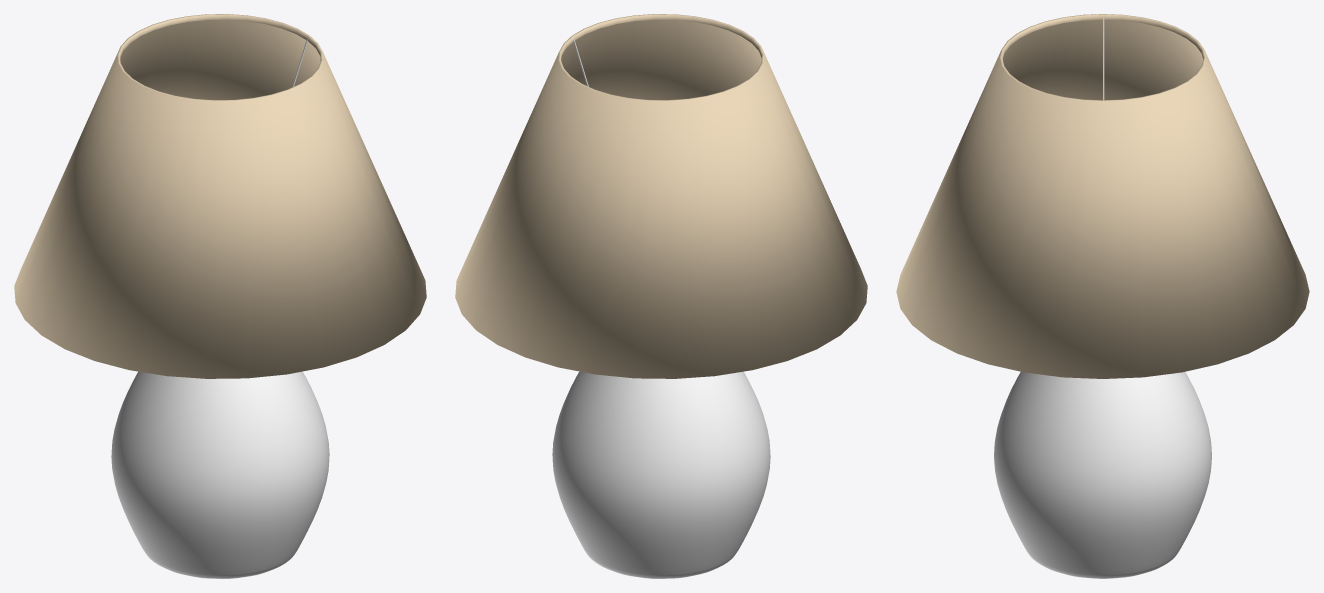
The model's file is Table_Lamp_Basic_01.fbx.
3 views of the same model, side by side, from view 1: azimuth 30°, elevation 25°; view 2: azimuth 150°, elevation 25°; view 3: azimuth 270°, elevation 25° (orthographic).
Visible parts, largest first — view 1: Lampshade, Lamp_base; view 2: Lampshade, Lamp_base; view 3: Lampshade, Lamp_base.
Part boxes in pixels (<box>): Lampshade: <box>14,14,426,378</box>; Lamp_base: <box>111,371,329,578</box>; Lampshade: <box>455,14,867,378</box>; Lamp_base: <box>552,371,770,578</box>; Lampshade: <box>896,14,1309,378</box>; Lamp_base: <box>994,372,1211,578</box>.
Size of the model in its own units: 32 by 41.93 by 32.
